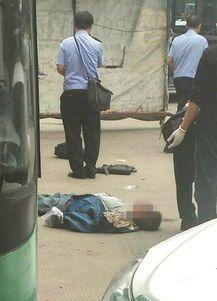Fall-Detected: (27, 183, 163, 236)
